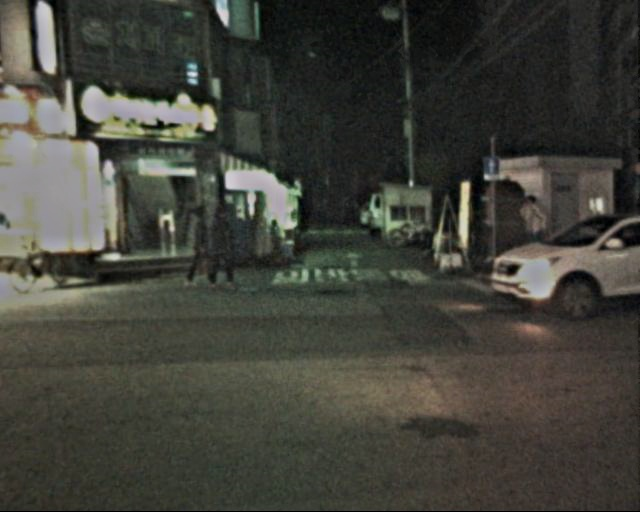person: (197, 201, 242, 294), (180, 204, 220, 289), (514, 193, 547, 274)
